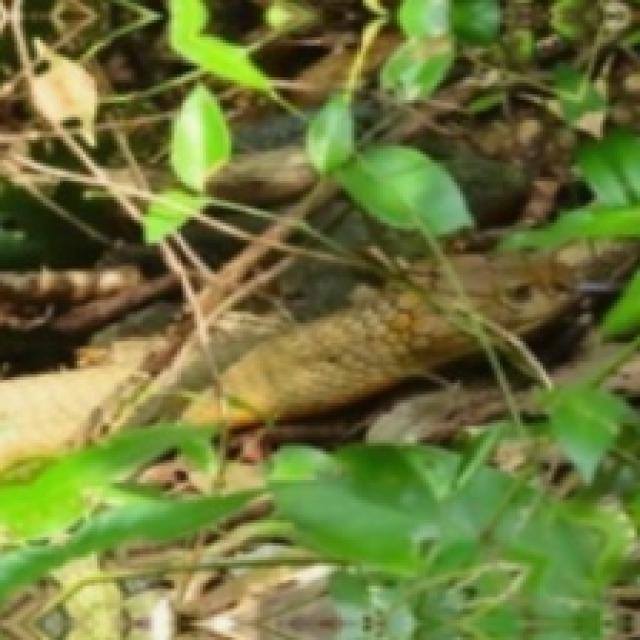king cobra: (230, 291, 472, 426), (1, 364, 139, 469), (457, 255, 582, 333)
